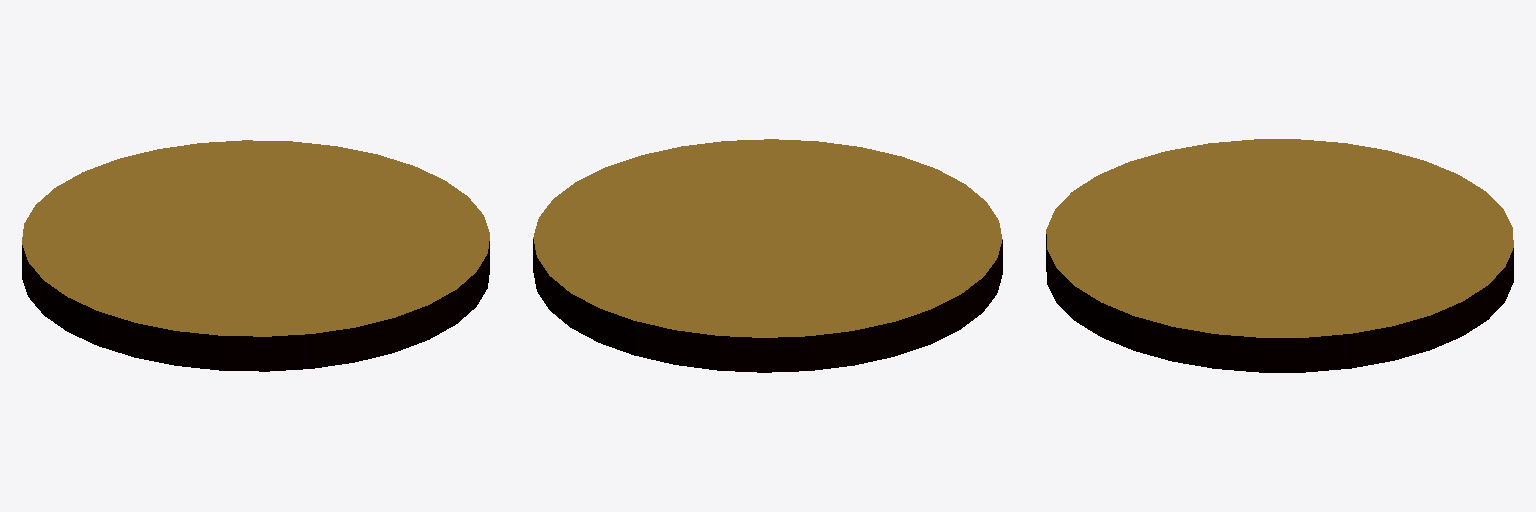
Rendered from centralstage.obj.
The picture shows the model from 3 angles: view 1: azimuth 30°, elevation 25°; view 2: azimuth 150°, elevation 25°; view 3: azimuth 270°, elevation 25°; orthographic projection.
Parts seen in each view (by area): view 1: Cylinder; view 2: Cylinder; view 3: Cylinder.
Part boxes in pixels (bbox=[...]): Cylinder: bbox=[22, 140, 489, 371]; Cylinder: bbox=[533, 139, 1002, 372]; Cylinder: bbox=[1046, 139, 1513, 372].
Size of the model in its own units: 0.803 by 0.0691 by 0.8026.